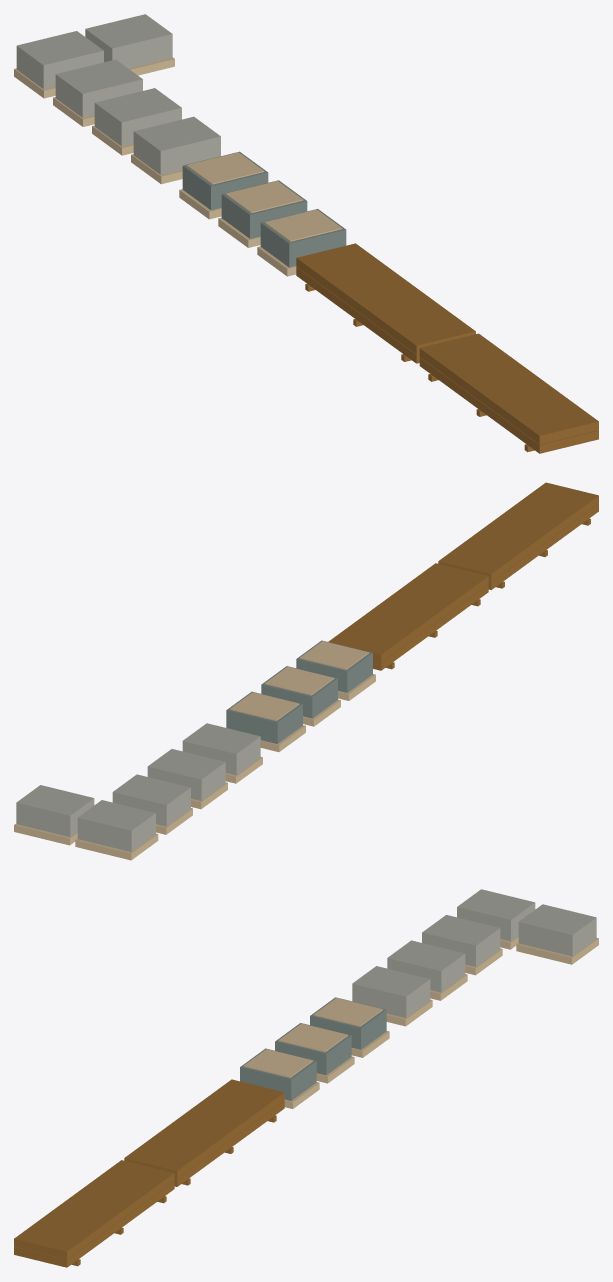
The model's file is SM_CargaMateriales_Mitad_LOD1.fbx.
The picture shows the model from 3 angles, top to bottom: view 1: azimuth 30°, elevation 25°; view 2: azimuth 150°, elevation 25°; view 3: azimuth 330°, elevation 25°; orthographic projection. The views are drawn at different scales.
Parts seen in each view (by area): view 1: SM_carga_vagon_v11_LOD1; view 2: SM_carga_vagon_v11_LOD1; view 3: SM_carga_vagon_v11_LOD1.
Boxes of the visible parts, box(x1,y1,x2,y2) form: SM_carga_vagon_v11_LOD1: box(14, 14, 598, 453); SM_carga_vagon_v11_LOD1: box(14, 482, 598, 860); SM_carga_vagon_v11_LOD1: box(14, 889, 598, 1267).
Size of the model in its own units: 2.52 by 0.605 by 17.45.
